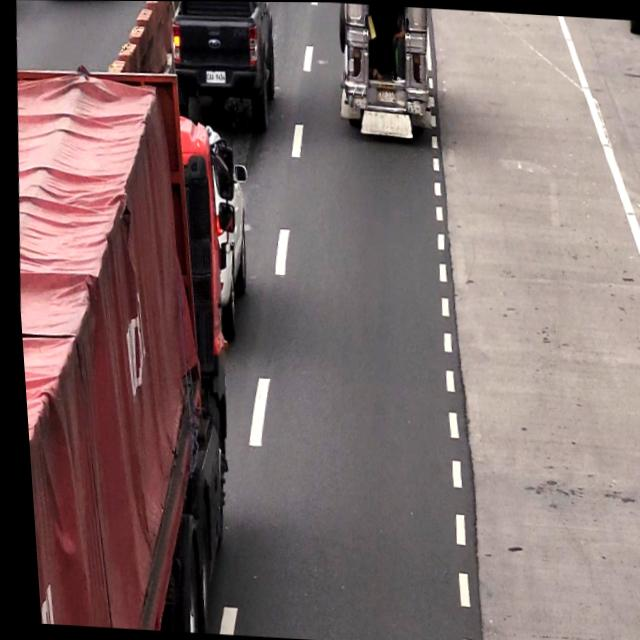Car: (162, 1, 282, 128)
Jeep: (335, 3, 435, 138)
License-Plate: (203, 69, 227, 85)
Truck: (3, 66, 241, 634)
